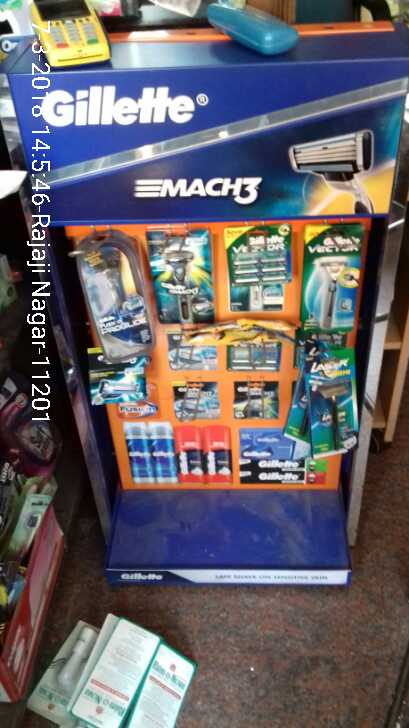gillette: (148, 236, 220, 325), (303, 229, 357, 328), (224, 226, 292, 284), (90, 348, 147, 401)
